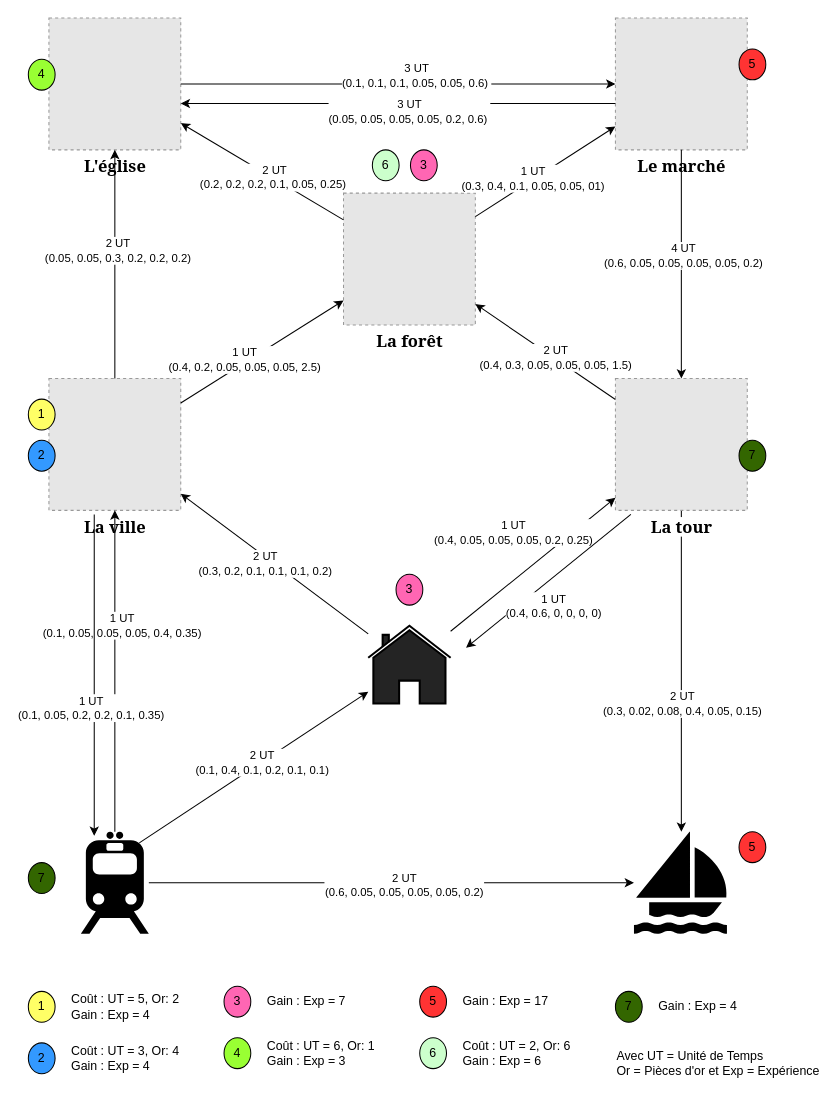
This 839x1102 diagram has some shape labels left out. Grey dashed boxes stand in for pictures. The shapes that lost their labels are listed below. From the top down, each one's box as (x1, y1, x2, y2) in pixels, then its label:
(367, 624, 451, 704): Point de départ
(80, 831, 148, 933): La gare
(633, 831, 728, 933): Le port
